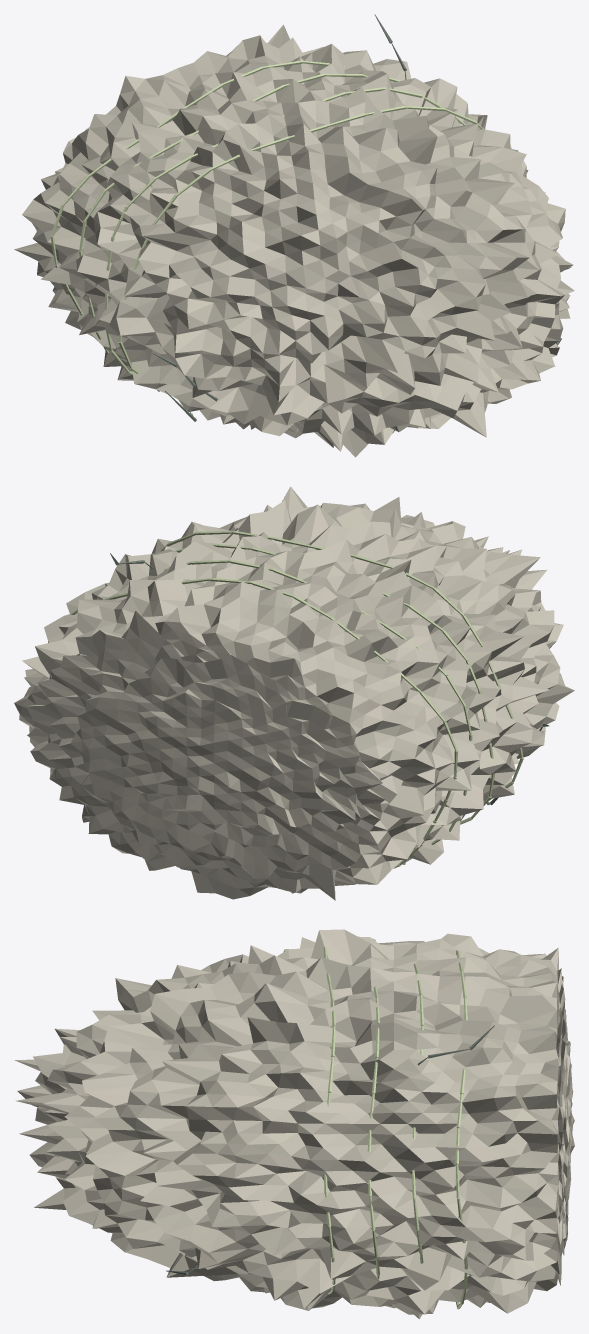
File: Aquarion_Salt_Cut_Cliff.glb
3 views of the same model, one above another, from view 1: azimuth 30°, elevation 25°; view 2: azimuth 150°, elevation 25°; view 3: azimuth 270°, elevation 25° (orthographic). The views are drawn at different scales.
Visible parts, largest first — view 1: Aquarion_Salt_Cut_Cliff_mass; view 2: Aquarion_Salt_Cut_Cliff_mass; view 3: Aquarion_Salt_Cut_Cliff_mass.
Part boxes in pixels (box(x1,y1,x2,y2)): Aquarion_Salt_Cut_Cliff_mass: box(14, 24, 574, 457); Aquarion_Salt_Cut_Cliff_mass: box(14, 486, 574, 900); Aquarion_Salt_Cut_Cliff_mass: box(14, 929, 574, 1319).
Bounding box in the file's own units: 2.82 × 1.89 × 2.98.
